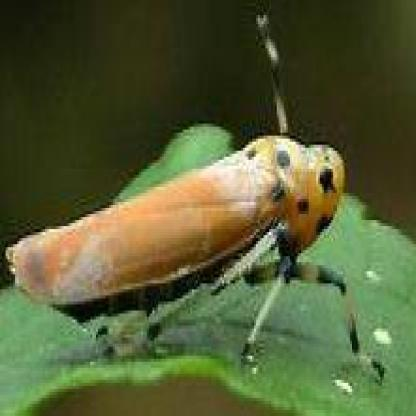Green-Leafhopper: (2, 19, 388, 377)
